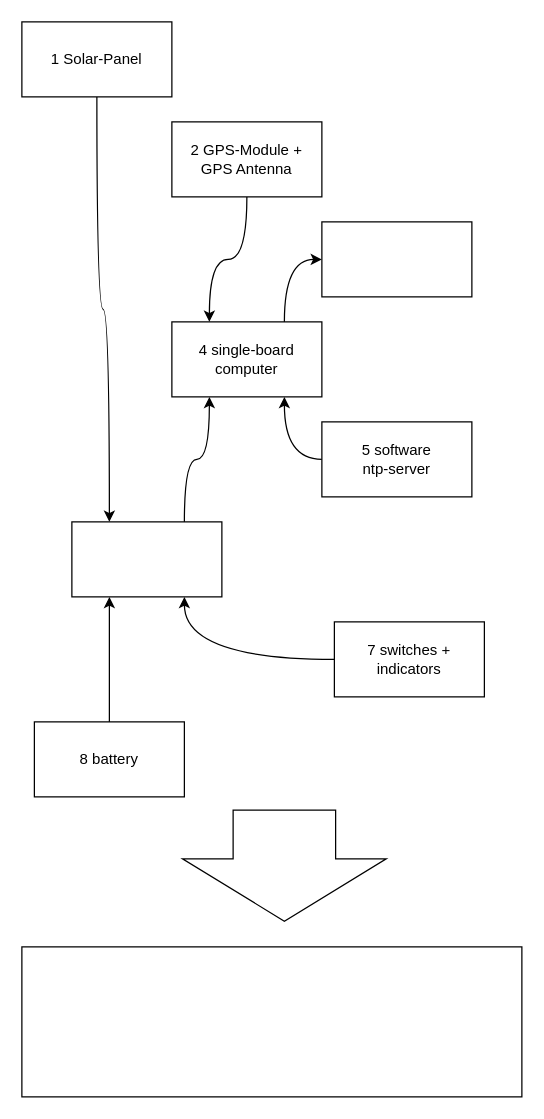
This 544x1119 diagram has some shape labels left out. Each missing label, with the box of its shape:
3 WIFI-antenna: (321, 221, 472, 297)
6 pcb: (71, 521, 222, 597)
9 Eurobox 600 x 400 mm: (21, 946, 522, 1097)
